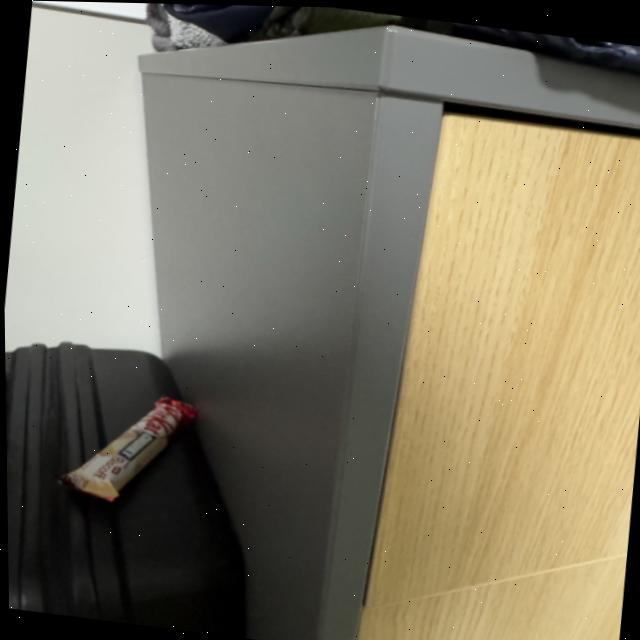chocolate: (58, 378, 206, 512)
